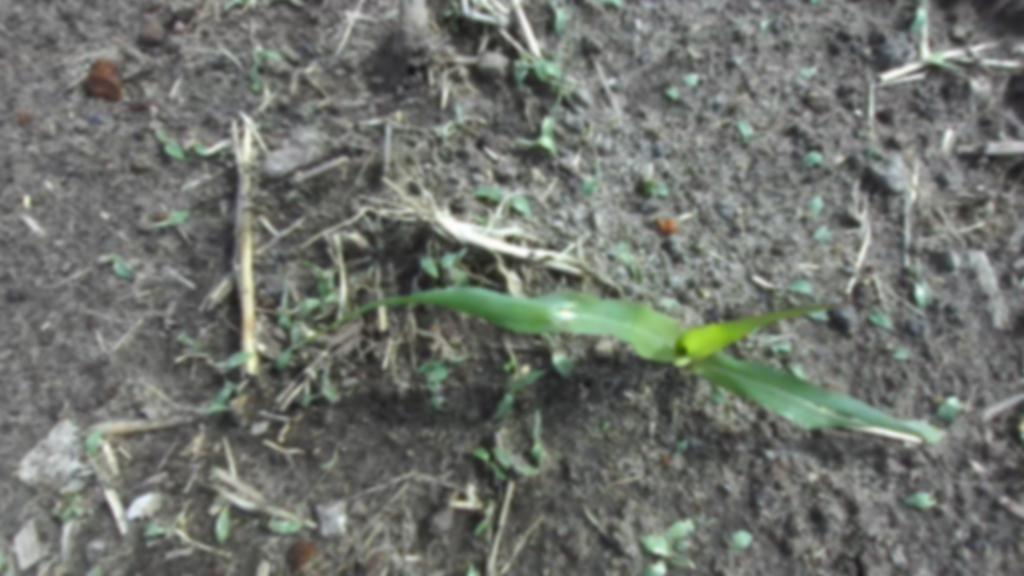BroWeed: (489, 358, 547, 422), (634, 528, 703, 570), (656, 502, 717, 545), (265, 498, 316, 546), (411, 340, 475, 377), (534, 333, 582, 382), (511, 53, 539, 132), (528, 53, 571, 101), (779, 348, 822, 393), (147, 126, 192, 166), (208, 500, 246, 547), (273, 316, 303, 375), (469, 442, 511, 484), (299, 253, 335, 301), (203, 376, 241, 421), (97, 246, 140, 284), (418, 375, 455, 419), (514, 128, 565, 159), (899, 270, 934, 313), (311, 363, 345, 407), (539, 84, 566, 139), (924, 45, 967, 78), (503, 450, 542, 486), (289, 291, 321, 334), (932, 392, 969, 428), (701, 382, 739, 417), (616, 247, 649, 287), (85, 462, 126, 494), (441, 97, 468, 143), (471, 497, 499, 540), (210, 347, 256, 373), (757, 441, 797, 469), (914, 266, 939, 310), (274, 274, 293, 331), (80, 423, 110, 459), (422, 359, 457, 389), (415, 239, 440, 281), (864, 305, 898, 335), (526, 52, 565, 78), (773, 276, 817, 299), (170, 329, 202, 360), (182, 137, 230, 157), (504, 190, 539, 217), (580, 155, 602, 197), (318, 442, 347, 473), (652, 292, 686, 318), (151, 208, 189, 231), (808, 224, 839, 252), (901, 489, 937, 513), (771, 336, 810, 358), (469, 181, 506, 204), (641, 558, 688, 576), (455, 269, 502, 287), (322, 262, 341, 306), (531, 407, 545, 465), (58, 492, 85, 522), (723, 527, 754, 552), (680, 64, 707, 92), (152, 514, 178, 543), (733, 116, 758, 146), (437, 248, 459, 281), (297, 384, 324, 410), (248, 48, 263, 94), (889, 348, 926, 366), (177, 509, 202, 535), (168, 502, 191, 530), (762, 339, 787, 363), (528, 92, 544, 128), (141, 518, 167, 540), (451, 247, 472, 273), (946, 241, 964, 271), (803, 195, 827, 217), (755, 10, 777, 34), (800, 147, 825, 167), (407, 282, 424, 311), (602, 240, 631, 257), (257, 46, 285, 63), (673, 433, 694, 455), (805, 307, 830, 325), (295, 319, 316, 340), (491, 446, 511, 468), (862, 141, 883, 161), (673, 539, 698, 555), (782, 290, 804, 308), (656, 217, 679, 234), (799, 64, 822, 80), (663, 84, 681, 104), (651, 179, 671, 196), (1, 556, 17, 576), (449, 11, 462, 35), (158, 203, 180, 217), (50, 499, 64, 521), (215, 146, 232, 164), (501, 358, 519, 374), (672, 452, 687, 469), (550, 46, 564, 63), (1011, 271, 1024, 289), (641, 179, 653, 198), (466, 560, 480, 576), (1013, 252, 1024, 270), (601, 0, 621, 9), (212, 494, 228, 505), (600, 418, 611, 434), (930, 394, 947, 404), (0, 547, 7, 570), (187, 128, 200, 140), (474, 215, 488, 226), (519, 362, 530, 375), (809, 0, 820, 5)
Maize: (292, 235, 962, 449)
